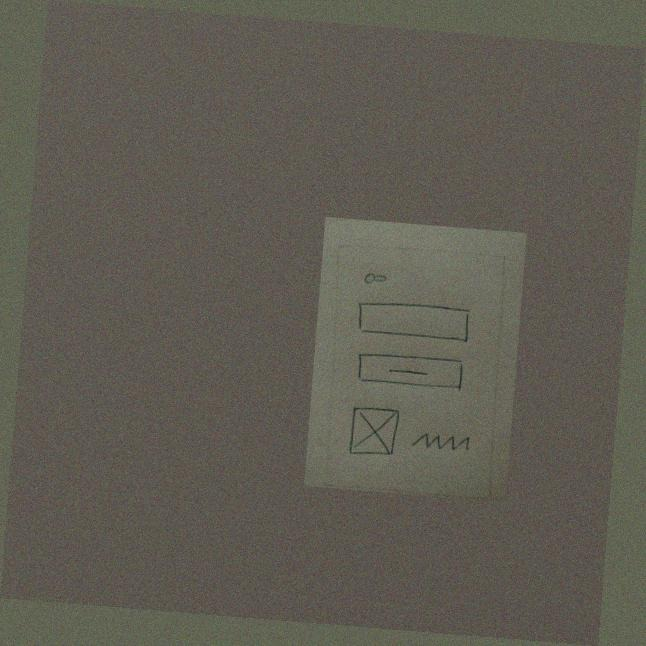button: (350, 348, 470, 395)
image: (342, 401, 407, 463)
switch: (359, 268, 391, 289)
text: (410, 425, 478, 460)
text_input: (354, 298, 476, 347)
